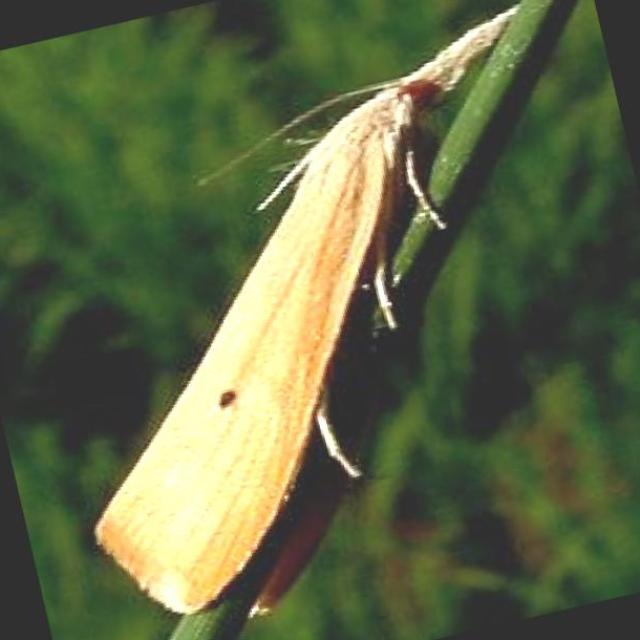stem borer: (95, 5, 516, 615)
